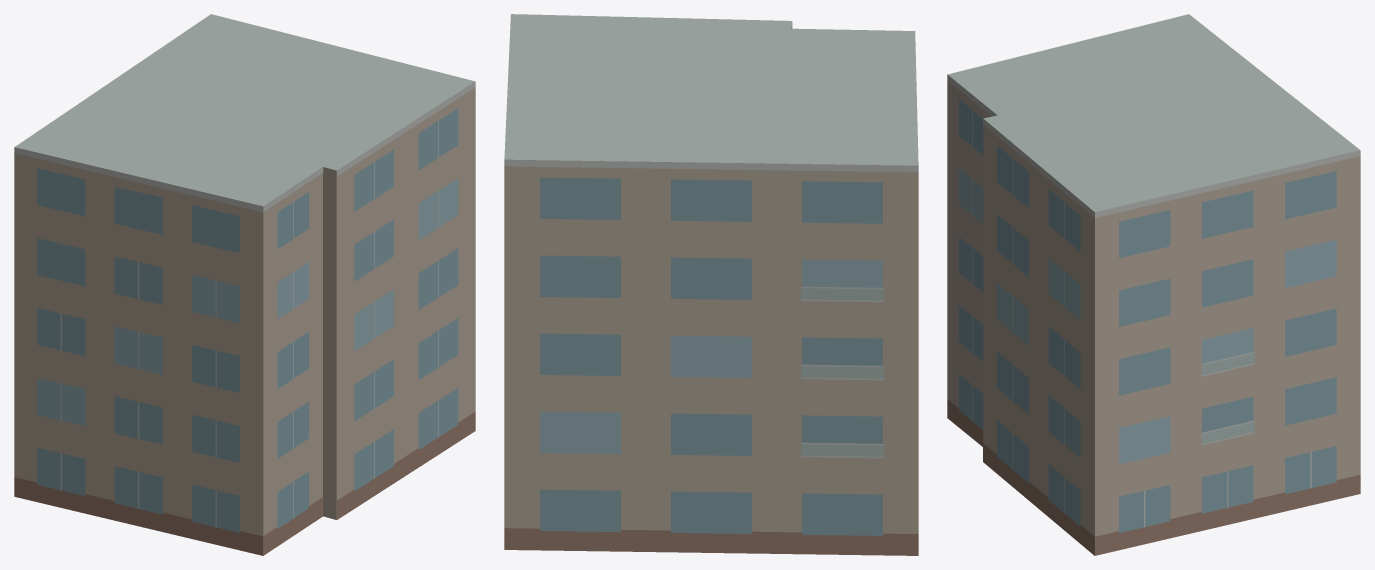
Rendered from survey-upis-32737466.glb.
3 renders of one model, left to right at view 1: azimuth 30°, elevation 25°; view 2: azimuth 150°, elevation 25°; view 3: azimuth 270°, elevation 25°, orthographic. The views are drawn at different scales.
Visible parts, largest first — view 1: survey-upis-32737466.tmp; view 2: survey-upis-32737466.tmp; view 3: survey-upis-32737466.tmp.
Boxes of the visible parts, <box> form: survey-upis-32737466.tmp: <box>14,14,475,555</box>; survey-upis-32737466.tmp: <box>504,14,918,555</box>; survey-upis-32737466.tmp: <box>947,14,1360,555</box>.
Size of the model in its own units: 17.57 by 14.2 by 15.48.
